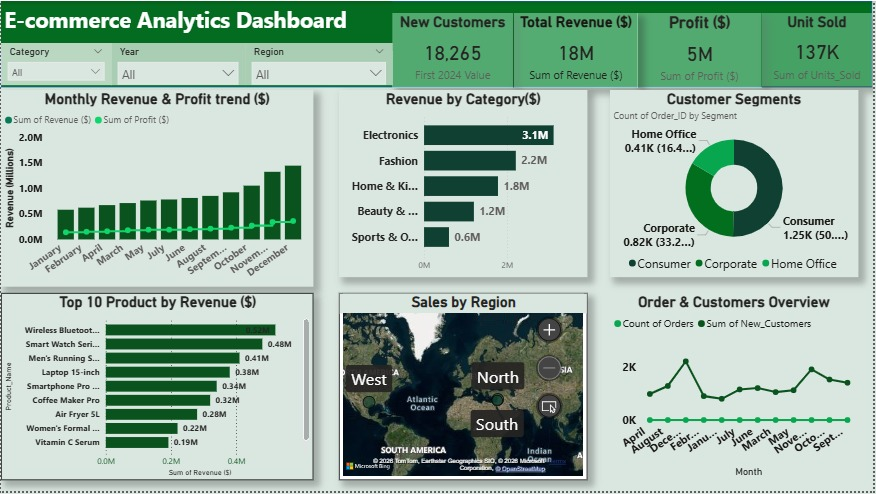

The page's visual inventory and layout, read from the dashboard file:
{"tool":"powerbi","page":{"name":"Page 1","canvas":[1280,720],"ordinal":0},"visuals":[{"type":"shape","box":[0,0,1280,126.7],"z":0},{"type":"card","title":"New Customers","fields":{"Values":["Min(KPI_Summary.Column2)"]},"box":[575,18.3,178.3,110],"z":1000},{"type":"card","title":"Profit ($)","fields":{"Values":["Sum(Category_Summary.Profit ($))"]},"box":[935,18.3,183.3,110],"z":2000},{"type":"card","title":"Total Revenue ($)","fields":{"Values":["Sum(Category_Summary.Revenue ($))"]},"box":[753.3,18.3,181.7,110],"z":3000},{"type":"card","title":"Unit Sold","fields":{"Values":["Sum(Category_Summary.Units_Sold)"]},"box":[1118.3,18.3,161.7,108.3],"z":4000},{"type":"lineClusteredColumnComboChart","title":"Monthly Revenue & Profit trend ($) ","fields":{"Category":["Monthly_Summary.Month"],"Y":["Sum(Monthly_Summary.Revenue ($))"],"Y2":["Sum(Monthly_Summary.Profit ($))"]},"box":[0,131,458.6,288.9],"z":5000},{"type":"clusteredBarChart","title":" Revenue by Category($)","fields":{"Category":["Category_Summary.Category"],"Y":["Sum(Category_Summary.Revenue ($))"]},"box":[497.2,131,364.5,275.5],"z":6000},{"type":"donutChart","title":"Customer Segments","fields":{"Category":["Orders.Segment"],"Y":["CountNonNull(Orders.Order_ID)"]},"box":[895.3,131,364.5,275.5],"z":7000},{"type":"clusteredBarChart","title":"Top 10 Product by Revenue ($)","fields":{"Category":["Top_Products.Product_Name"],"Y":["Sum(Top_Products.Revenue ($))"]},"box":[0,428.3,458.6,275.5],"z":8000},{"type":"map","title":"Sales by Region","fields":{"Size":["Sum(Orders.Sales Revenue)"],"Category":["Region_Summary.Region"]},"box":[497.2,428.3,364.5,275.5],"z":9000},{"type":"lineChart","title":"Order & Customers Overview","fields":{"Y":["CountNonNull(Category_Summary.Orders)","Sum(Monthly_Summary.New_Customers)"],"Category":["Monthly_Summary.Month"]},"box":[895.3,428.3,364.5,275.5],"z":10000},{"type":"textbox","box":[0,0,575,73.3],"z":10001},{"type":"slicer","fields":{"Values":["Orders.Ship_Date.Variation.Date Hierarchy.Year"]},"box":[161.7,61.7,196.7,61.7],"z":10002},{"type":"slicer","fields":{"Values":["Orders.Region"]},"box":[358.3,61.7,216.7,61.7],"z":10003},{"type":"slicer","fields":{"Values":["Category_Summary.Category"]},"box":[0,61.7,161.7,61.7],"z":10004},{"type":"bookmarkNavigator","box":[0,0,600,50],"z":10005}]}

Visuals, with their boxes in screenshot pixels (x1, y1, x2, y2), scaled from the page's 1280x720 canvas onto the 876x494 screenshot:
shape: box(0, 0, 875, 87)
"New Customers" card: box(394, 13, 516, 88)
"Profit ($)" card: box(640, 13, 765, 88)
"Total Revenue ($)" card: box(516, 13, 640, 88)
"Unit Sold" card: box(765, 13, 875, 87)
"Monthly Revenue & Profit trend ($) " lineClusteredColumnComboChart: box(0, 90, 314, 288)
" Revenue by Category($)" clusteredBarChart: box(340, 90, 590, 279)
"Customer Segments" donutChart: box(613, 90, 862, 279)
"Top 10 Product by Revenue ($)" clusteredBarChart: box(0, 294, 314, 483)
"Sales by Region" map: box(340, 294, 590, 483)
"Order & Customers Overview" lineChart: box(613, 294, 862, 483)
textbox: box(0, 0, 394, 50)
slicer - Orders.Ship_Date.Variation.Date Hierarchy.Year: box(111, 42, 245, 85)
slicer - Orders.Region: box(245, 42, 394, 85)
slicer - Category_Summary.Category: box(0, 42, 111, 85)
bookmarkNavigator: box(0, 0, 411, 34)
